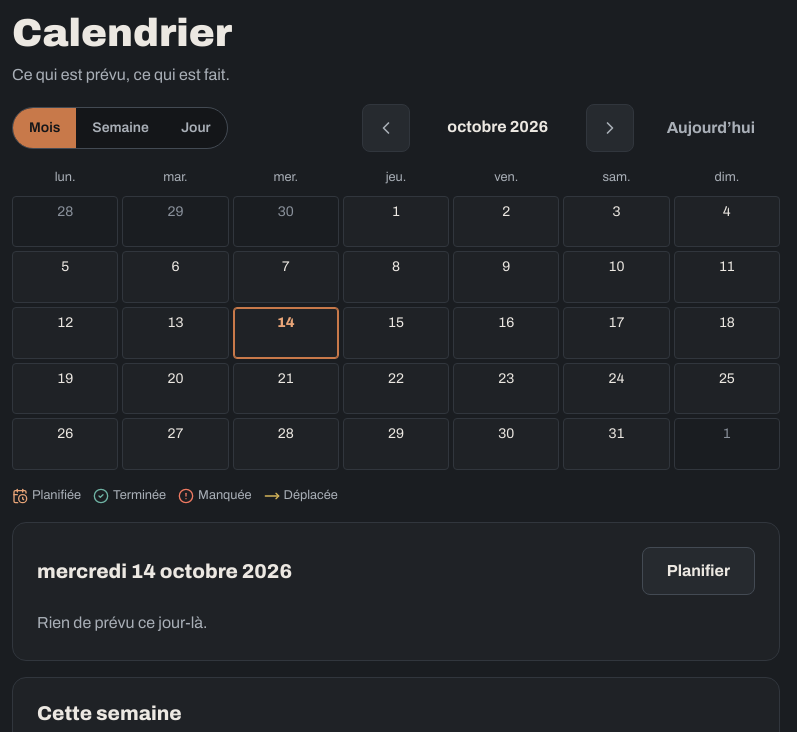
Test: CalendarView › navigue d’un mois à l’autre et revient à aujourd’hui
Expected: the 1st button with class "cell" is shown, [12, 196, 118, 247]
Click the button named "Période suivante" at (610, 128), box [586, 104, 634, 152]
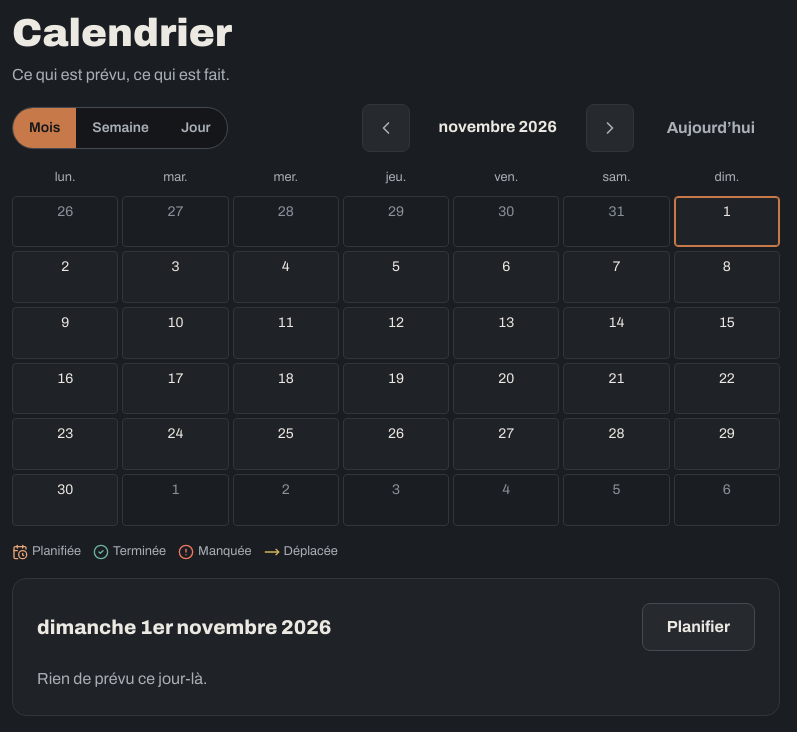
Expected: the text with class "calendar__range" reads "novembre 2026", [439, 118, 557, 135]
Click the button named "Période précédente" at (386, 128), box [362, 104, 410, 152]
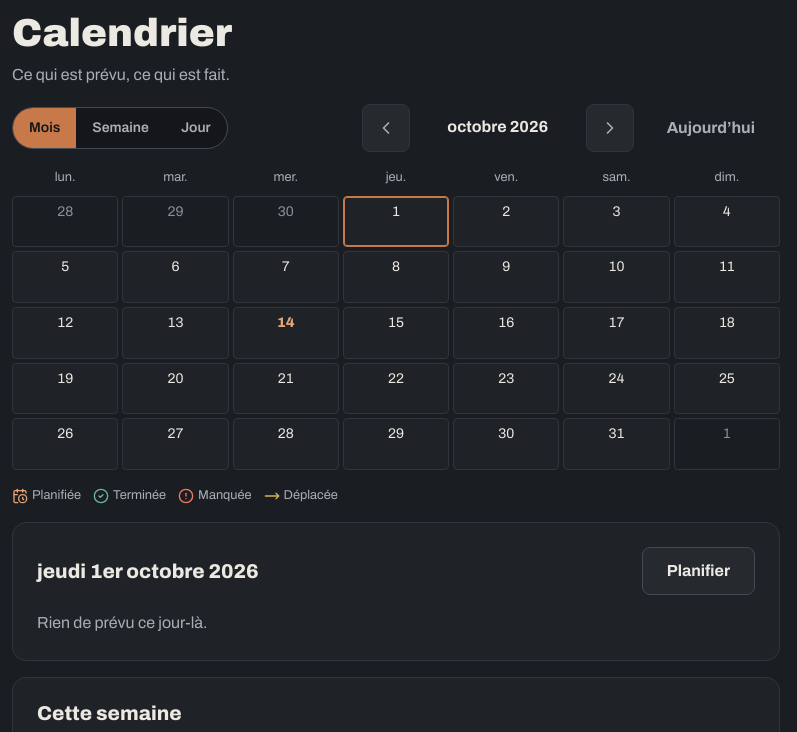
Click the button named "Période précédente" at (386, 128), box [362, 104, 410, 152]
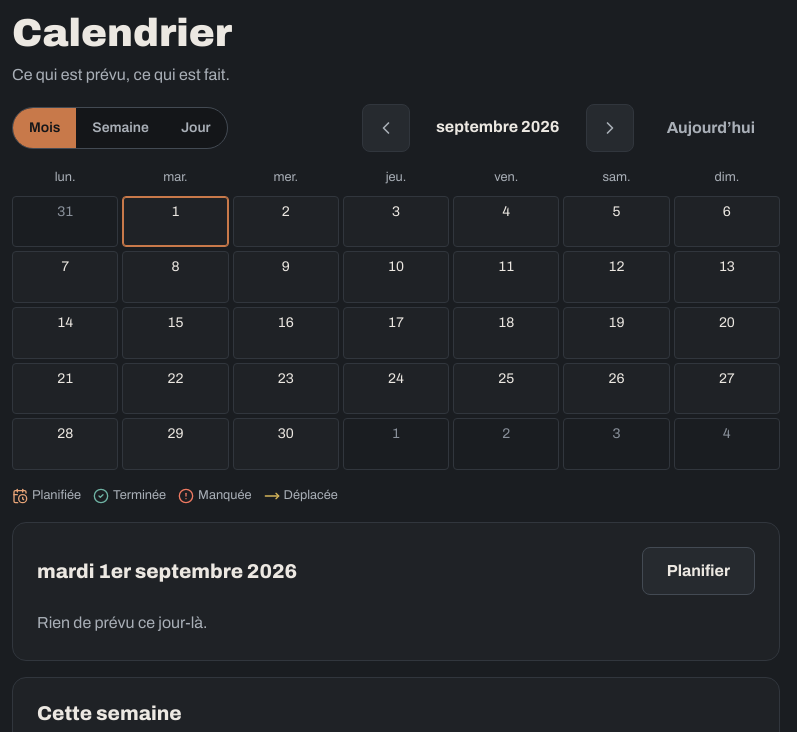
Expected: the text with class "calendar__range" reads "septembre 2026", [436, 118, 560, 135]
Click the button "Aujourd’hui" at (711, 128), box [642, 104, 780, 152]
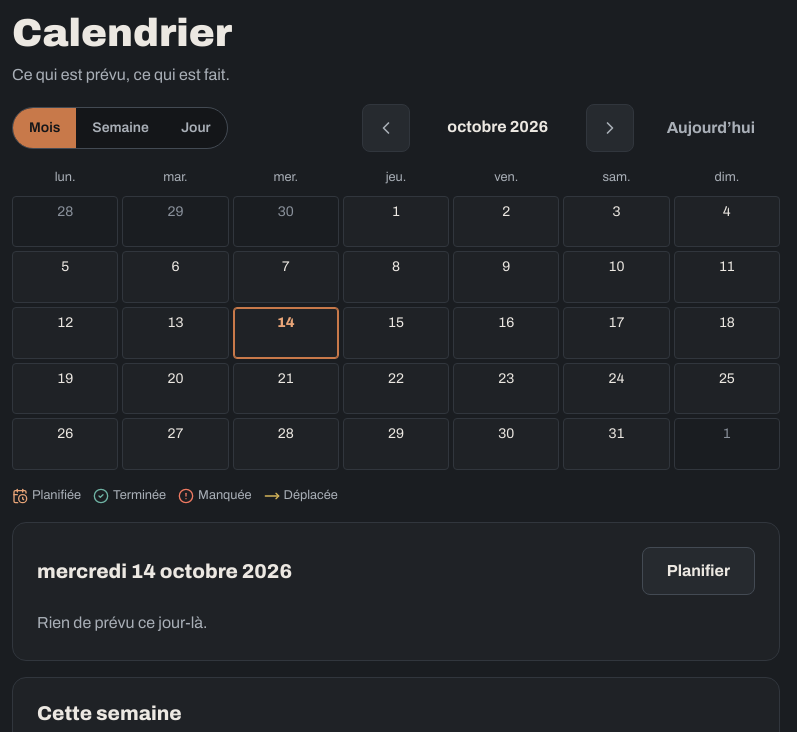
Expected: the text with class "calendar__range" reads "octobre 2026", [447, 118, 548, 135]
